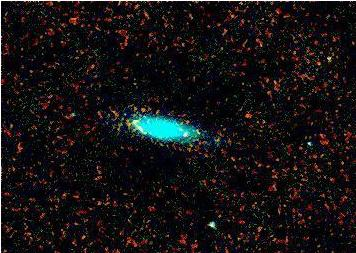star: (317, 43, 347, 73)
